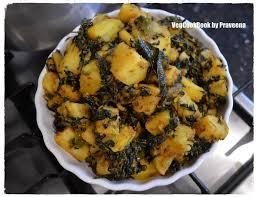Aloo Methi: (34, 10, 237, 178)
